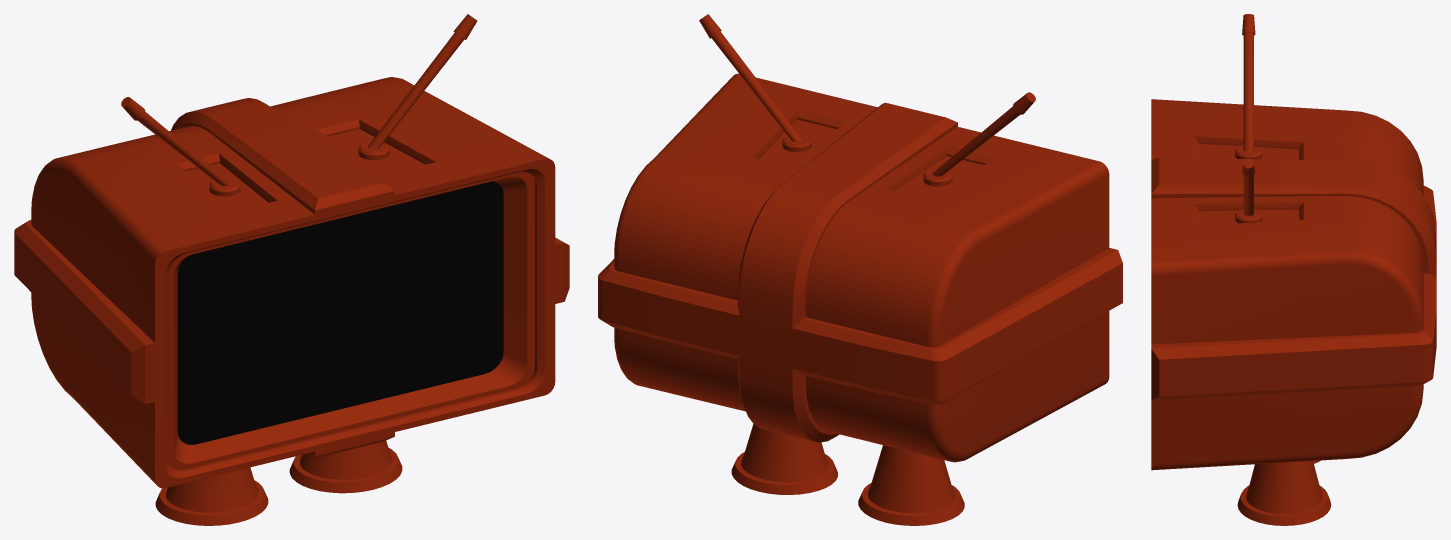
The model's file is TvRewokr.fbx.
3 views of the same model, side by side, from view 1: azimuth 30°, elevation 25°; view 2: azimuth 150°, elevation 25°; view 3: azimuth 270°, elevation 25° (orthographic). The views are drawn at different scales.
Parts seen in each view (by area): view 1: Cube, Cube.001, Cylinder.001, Cylinder.002; view 2: Cube, Cylinder.001, Cylinder.002; view 3: Cube, Cylinder.001, Cylinder.002.
Boxes of the visible parts, bbox=[...] form: Cube: bbox=[14, 77, 569, 488]; Cube.001: bbox=[177, 181, 503, 444]; Cylinder.001: bbox=[155, 440, 402, 525]; Cylinder.002: bbox=[121, 14, 477, 196]; Cube: bbox=[598, 73, 1122, 462]; Cylinder.001: bbox=[731, 424, 964, 525]; Cylinder.002: bbox=[699, 14, 1035, 186]; Cube: bbox=[1151, 99, 1436, 470]; Cylinder.001: bbox=[1237, 460, 1331, 525]; Cylinder.002: bbox=[1235, 14, 1262, 223].
Size of the model in its own units: 93.88 by 91.5 by 60.48.
